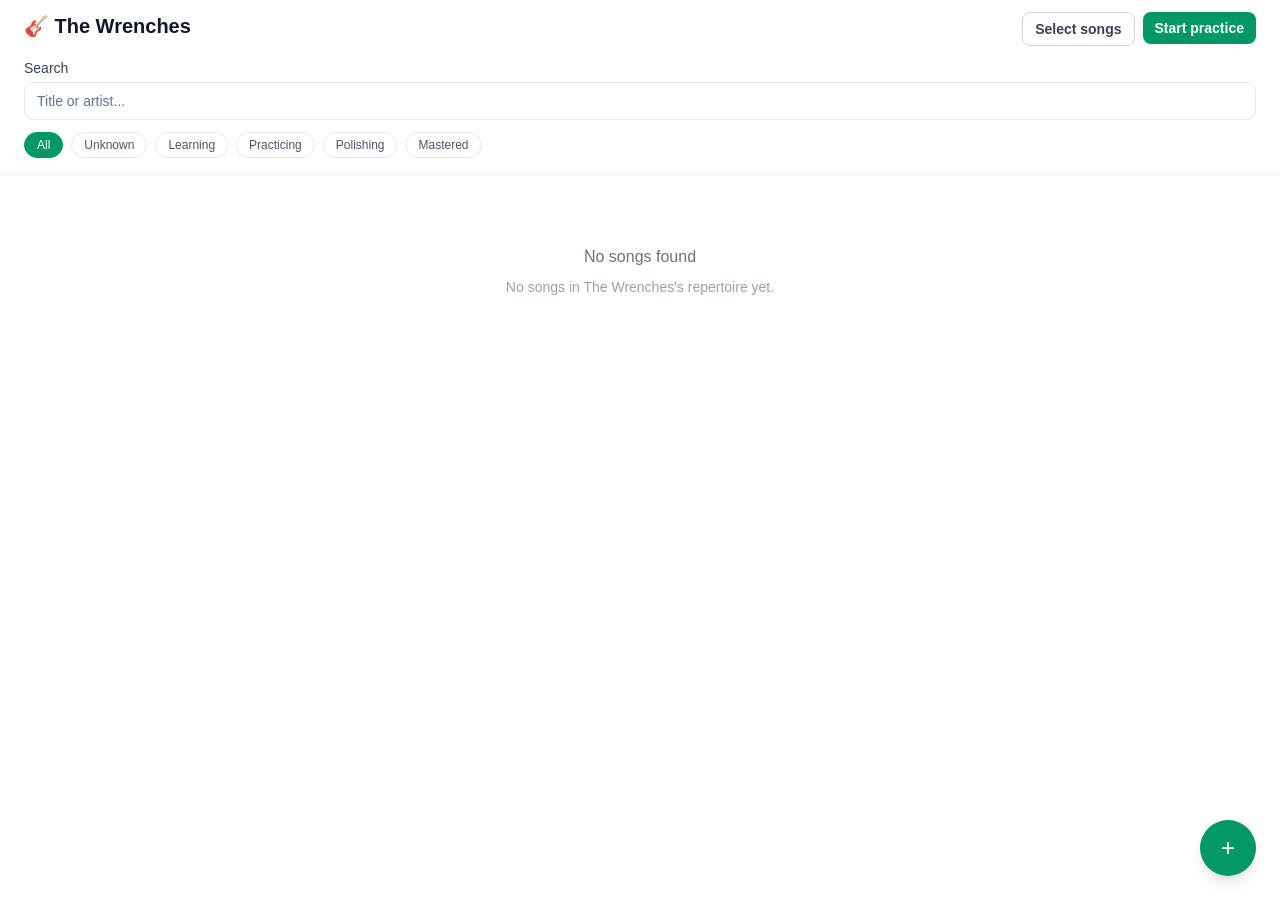
dashboard in band context › offers the whole repertoire in the source menu
Click the button "Start practice" at (1199, 28), box x1=1142 y1=12 x2=1256 y2=44
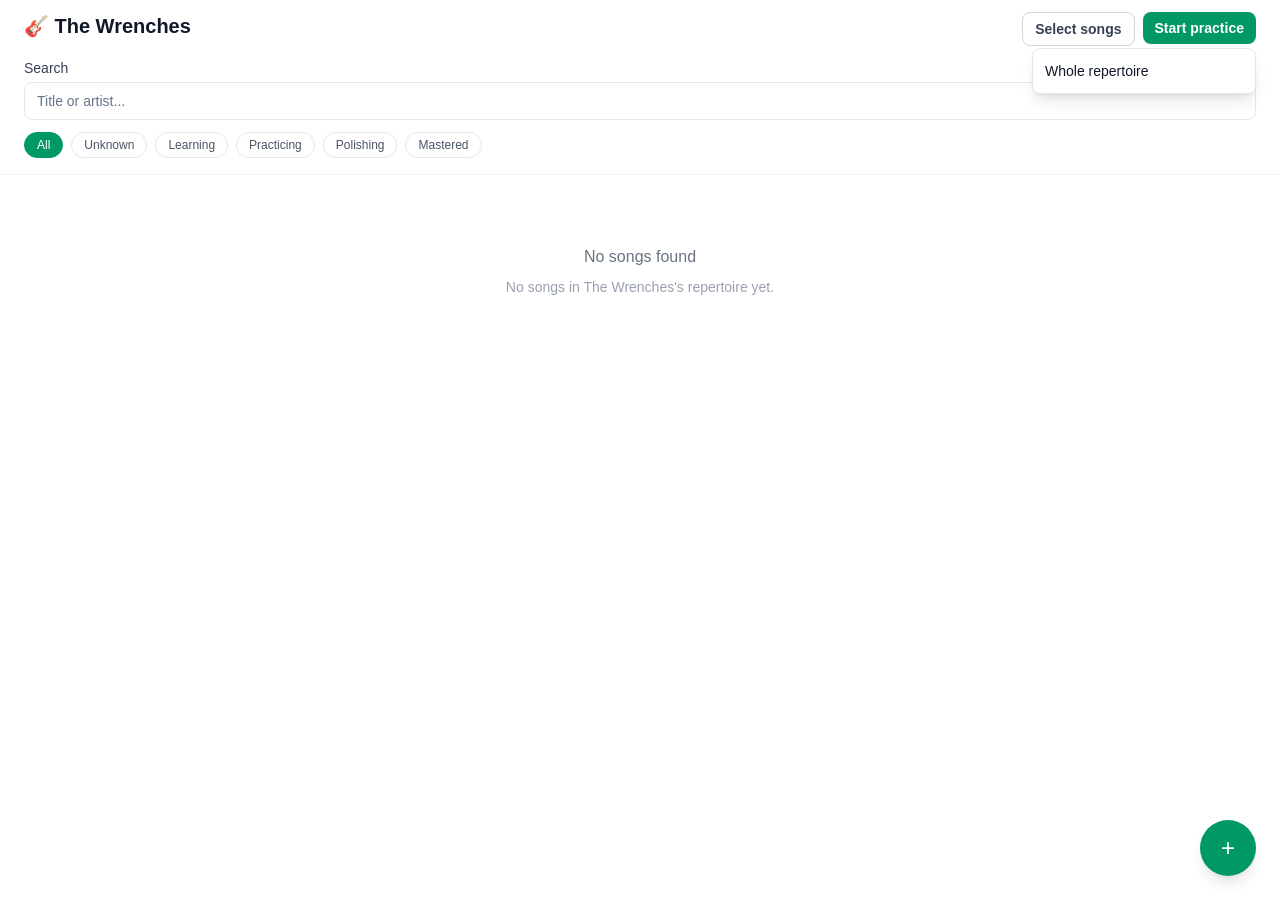
Expected: the menu item "Whole repertoire" is shown, x1=1033 y1=53 x2=1255 y2=89
